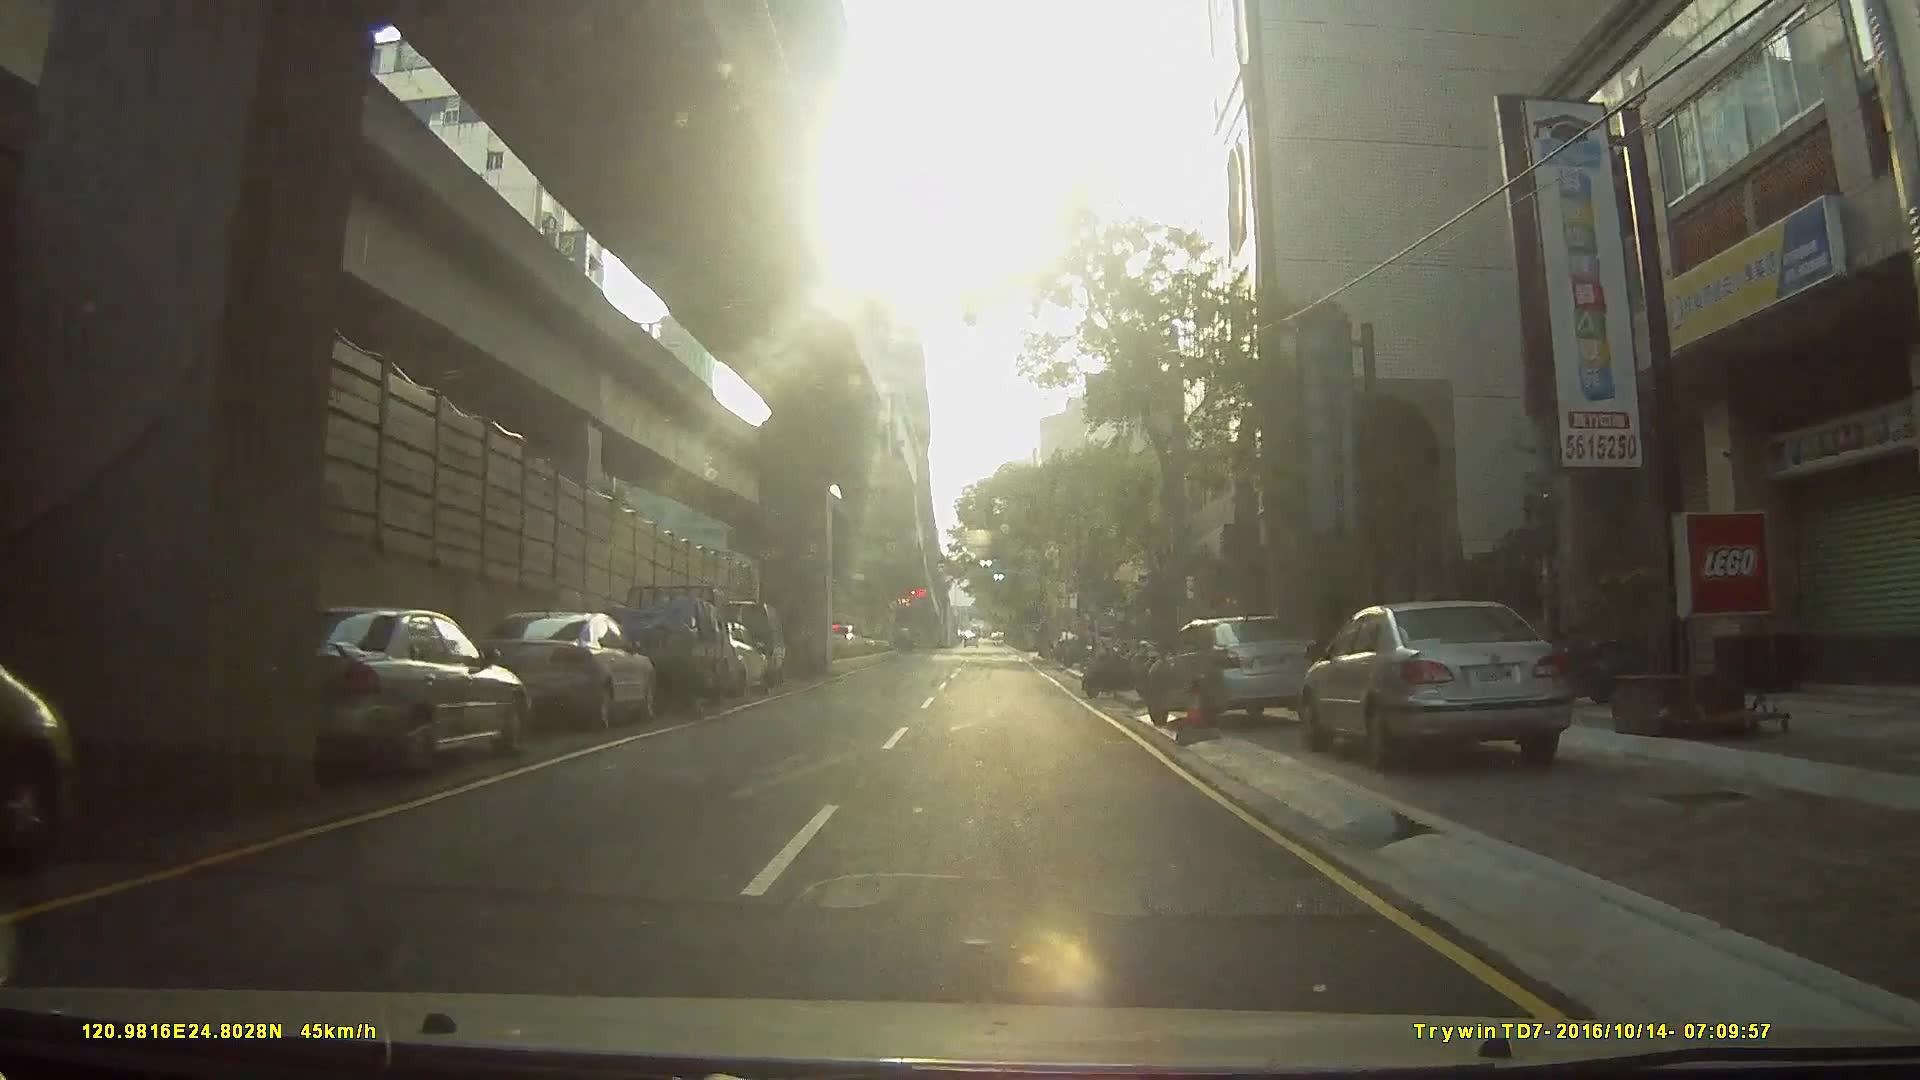rider: (1084, 627, 1150, 702)
vehicle: (241, 605, 529, 791), (1305, 596, 1594, 771), (459, 610, 669, 734), (1145, 608, 1332, 729), (589, 578, 730, 713)
